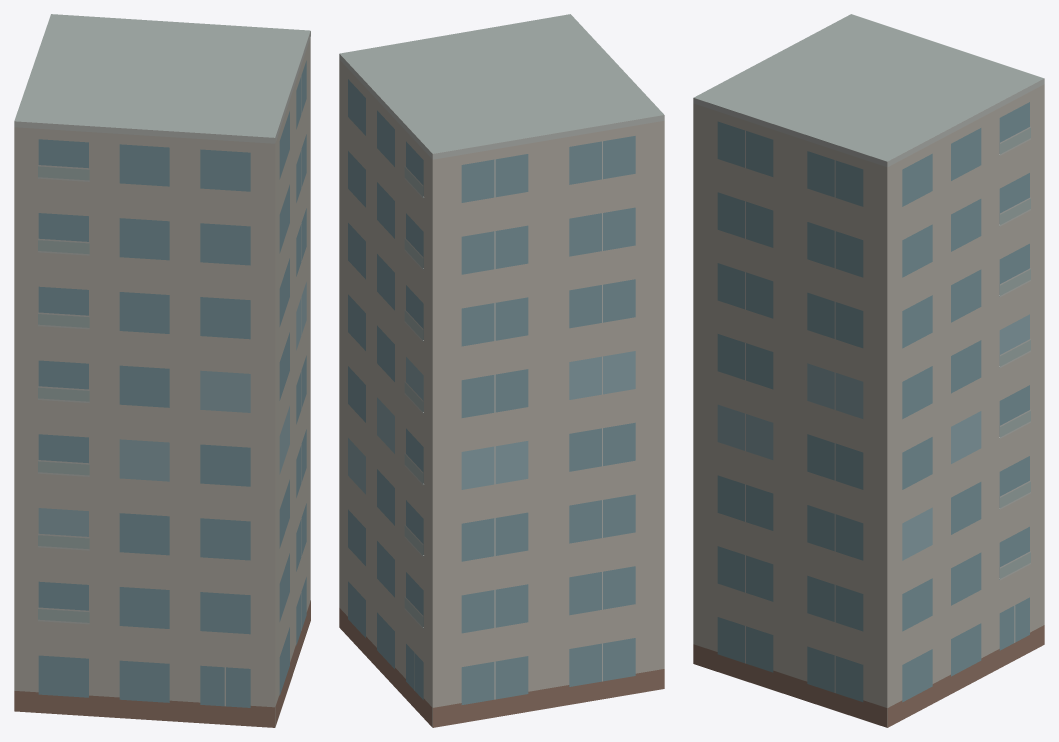
File: survey-upis-32669919.glb
3 renders of one model, left to right at view 1: azimuth 30°, elevation 25°; view 2: azimuth 150°, elevation 25°; view 3: azimuth 270°, elevation 25°, orthographic. The views are drawn at different scales.
Visible parts, largest first — view 1: survey-upis-32669919.tmp; view 2: survey-upis-32669919.tmp; view 3: survey-upis-32669919.tmp.
Boxes of the visible parts, x1,y1,x2,y2 form: survey-upis-32669919.tmp: (14, 14, 310, 727); survey-upis-32669919.tmp: (339, 14, 664, 727); survey-upis-32669919.tmp: (693, 14, 1044, 727).
Size of the model in its own units: 13.66 by 24.4 by 13.72.
